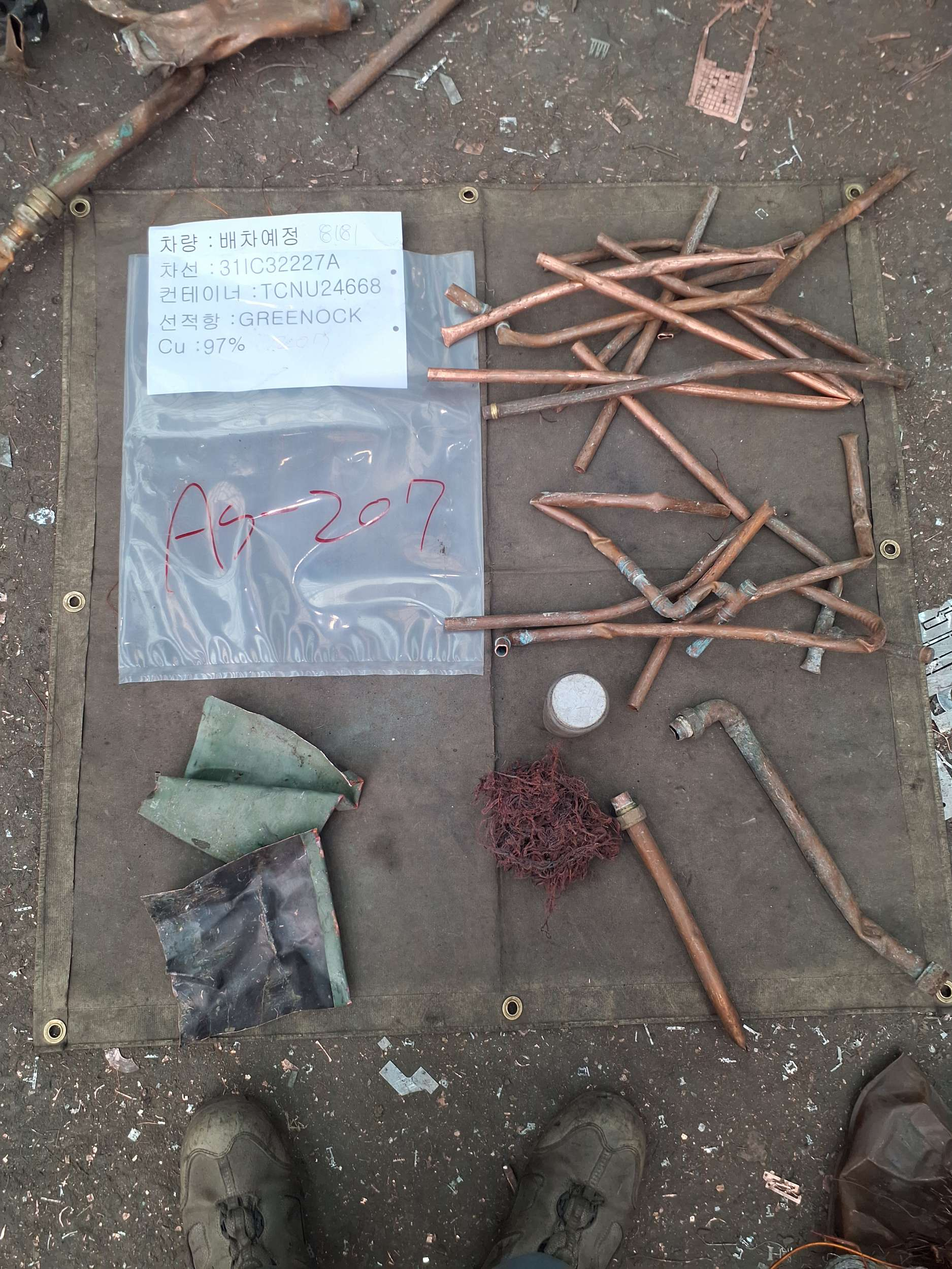Brass_Attach_70: (612, 791, 748, 1050)
Burnt_Wire: (477, 747, 625, 918)
Clean_Copper_Tubes_98: (669, 698, 947, 1000)
Copper_Plates_93: (141, 833, 356, 1045)
